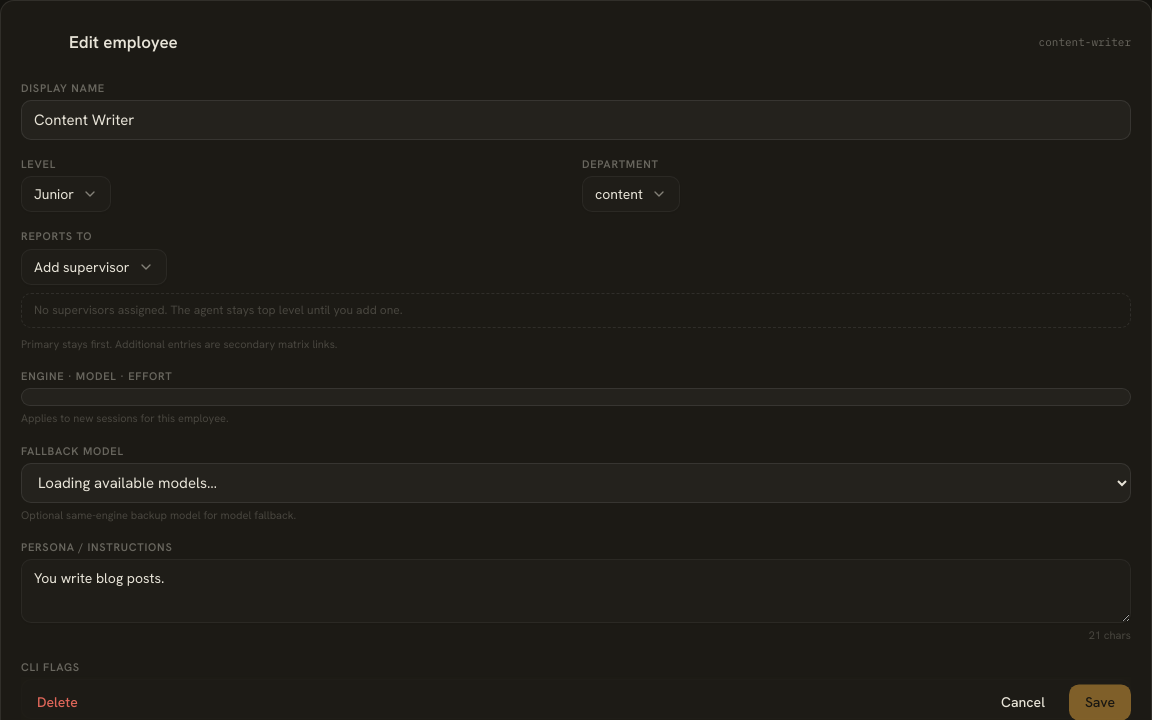
Scenario: EmployeeEditor › surfaces the error and stays open on a failed delete
Step 1. Click the button "Delete" → (57, 702), box [21,684,94,719]
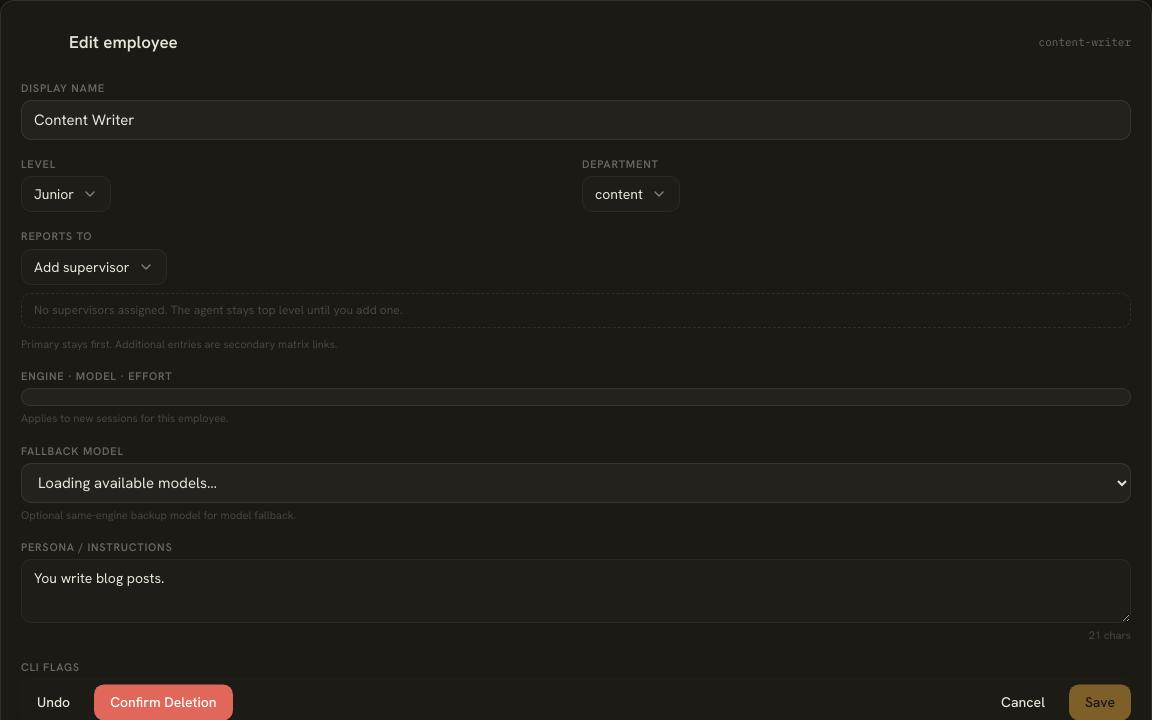
Step 2. Click the button "Confirm Deletion" → (163, 702), box [94,684,232,719]
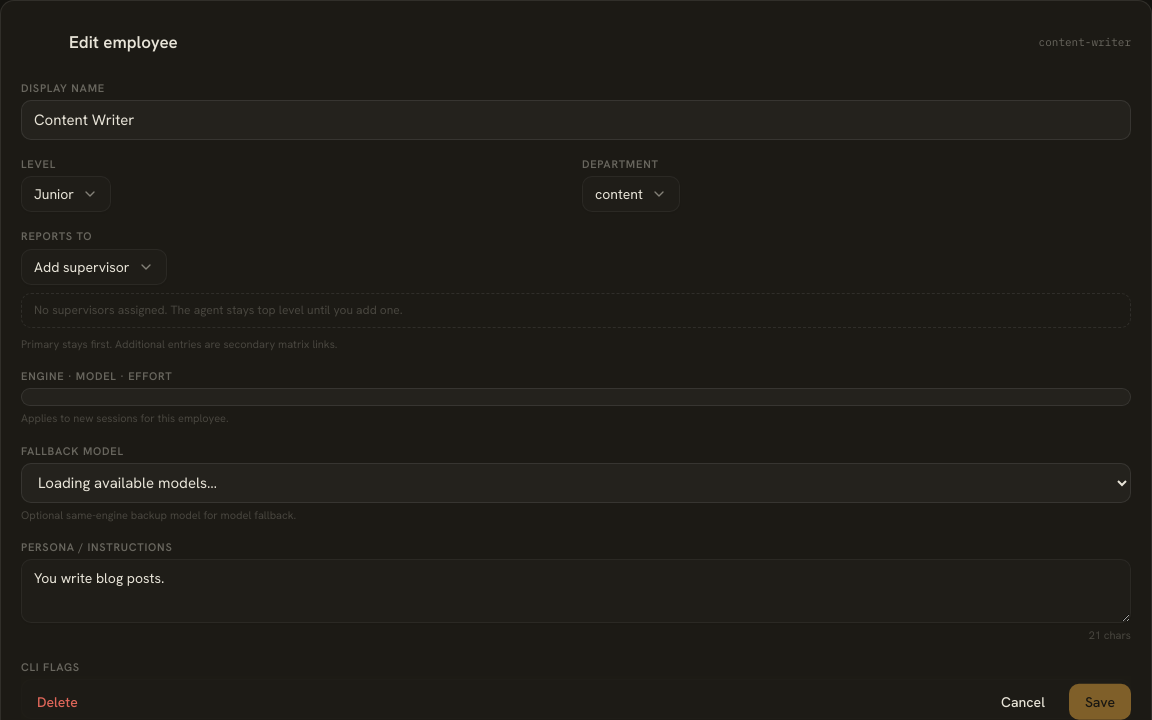
Expected: the button "Delete" is shown, [21,684,94,719]
